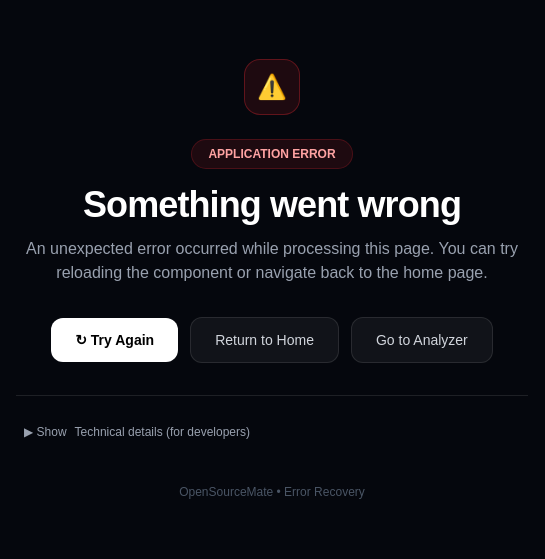
Test: ErrorBoundary Segment Component › allows toggling technical error details accordion
Check: the text "Failed to load chunk 123" is not shown
Click the button "▶ Show Technical details (for developers)" at [137, 432], box left=16, top=420, right=258, bottom=444
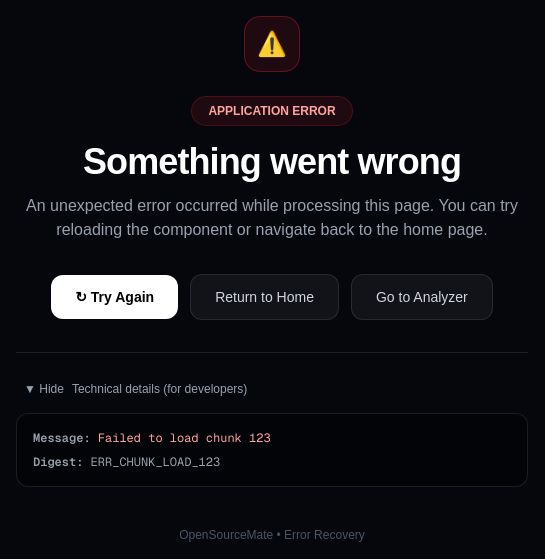
Check: the text "Failed to load chunk 123" is shown, box left=98, top=430, right=271, bottom=446
Check: the text "ERR_CHUNK_LOAD_123" is shown, box left=91, top=454, right=220, bottom=470
Click the button "▼ Hide Technical details (for developers)" at [136, 388], box left=16, top=376, right=255, bottom=400
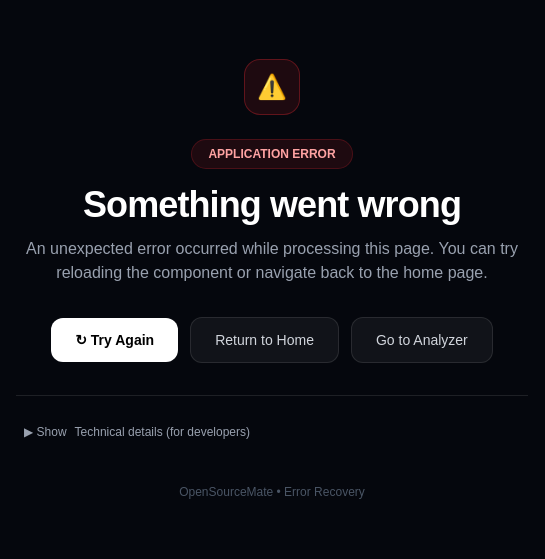
Check: the text "Failed to load chunk 123" is gone
